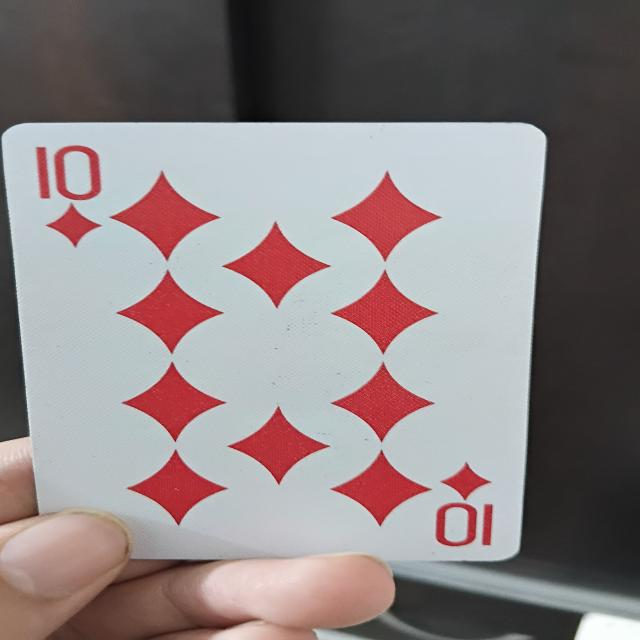10D: (12, 115, 549, 566)
